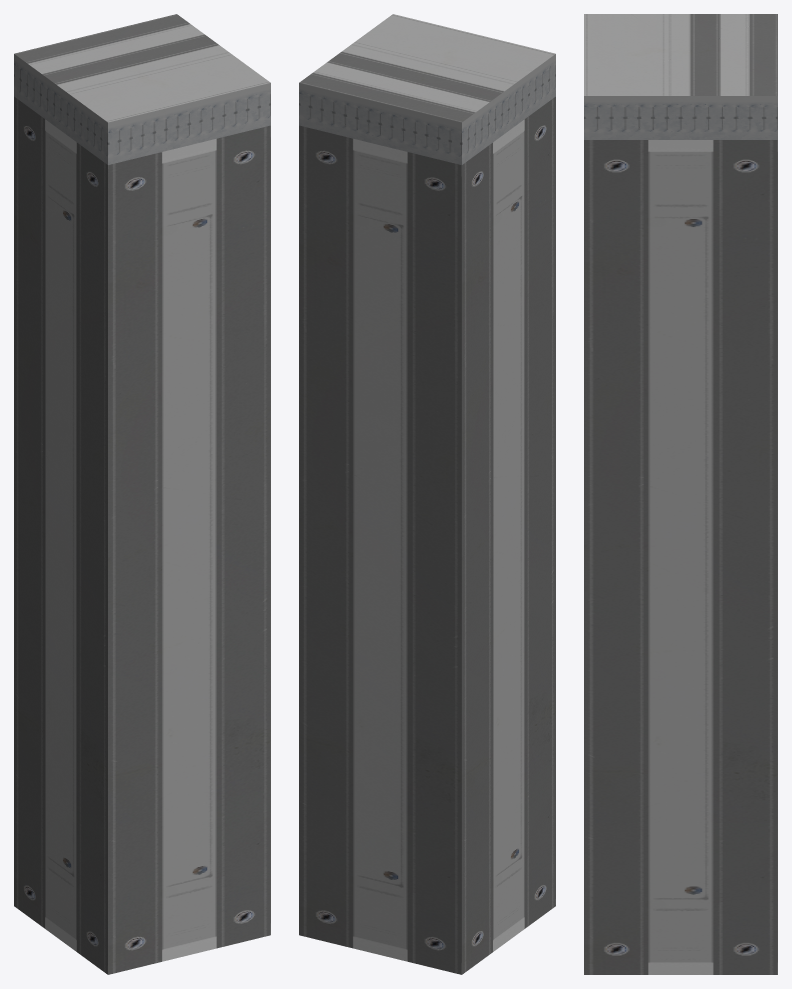
The model's file is SM_PillarC1.fbx.
The picture shows the model from 3 angles, left to right: view 1: azimuth 30°, elevation 25°; view 2: azimuth 150°, elevation 25°; view 3: azimuth 270°, elevation 25°; orthographic projection. The views are drawn at different scales.
Visible parts, largest first — view 1: SM_PillarC1_LOD0; view 2: SM_PillarC1_LOD0; view 3: SM_PillarC1_LOD0.
Part boxes in pixels (x1,y1,x2,y2): SM_PillarC1_LOD0: (14,14,270,974); SM_PillarC1_LOD0: (299,14,555,974); SM_PillarC1_LOD0: (584,14,777,974).
Bounding box in the file's own units: 80 × 80 × 400.
